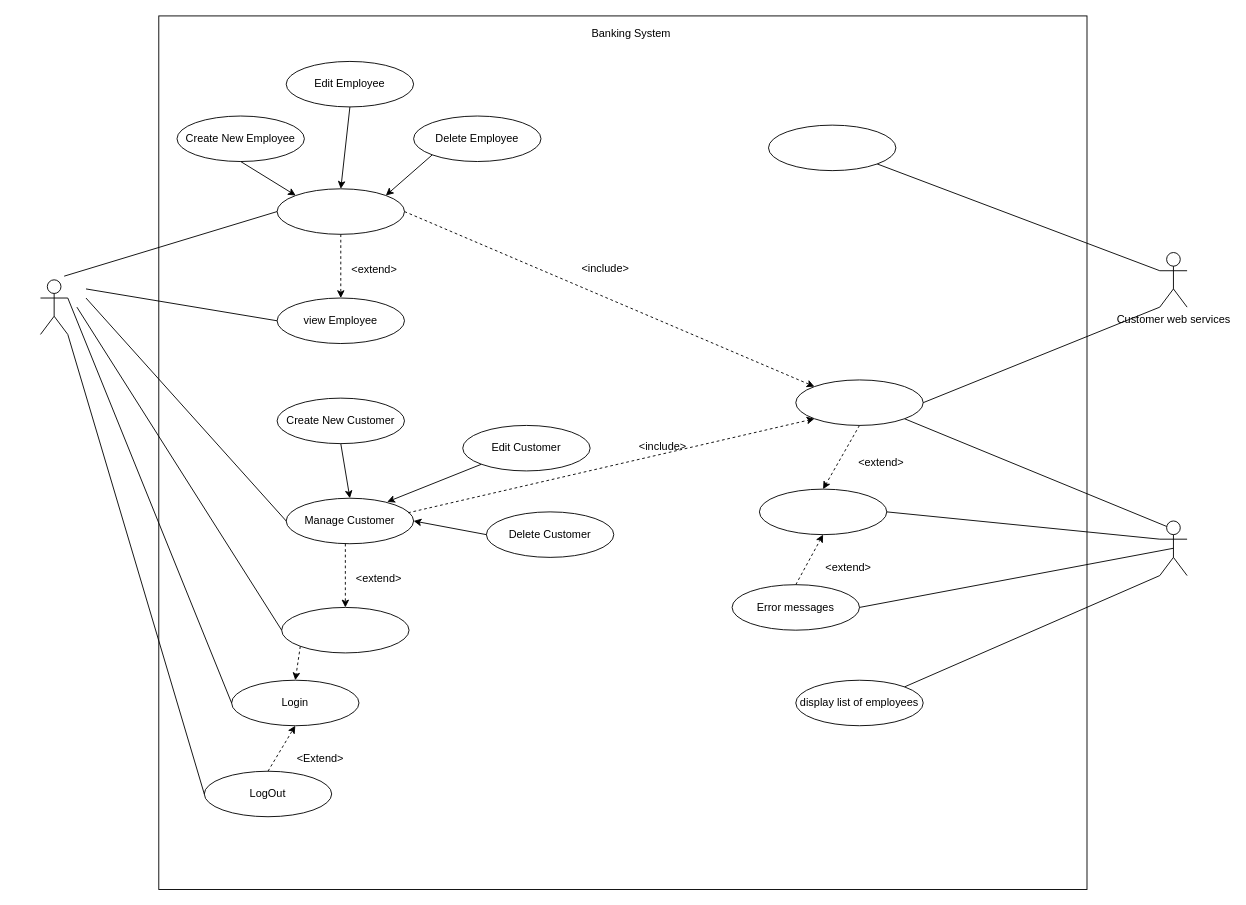
Some shapes in this 1246 by 905 pixel diagram are drawn without their labels. Each missing label, with the centre of its shape:
Bank Employee: (x=54, y=306)
Display Customer list: (x=832, y=147)
Emplyee Web Services: (x=1173, y=548)
Manage Employee: (x=340, y=211)
Update employee and customer: (x=859, y=402)
verify login user: (x=822, y=511)
view Customer: (x=345, y=630)
